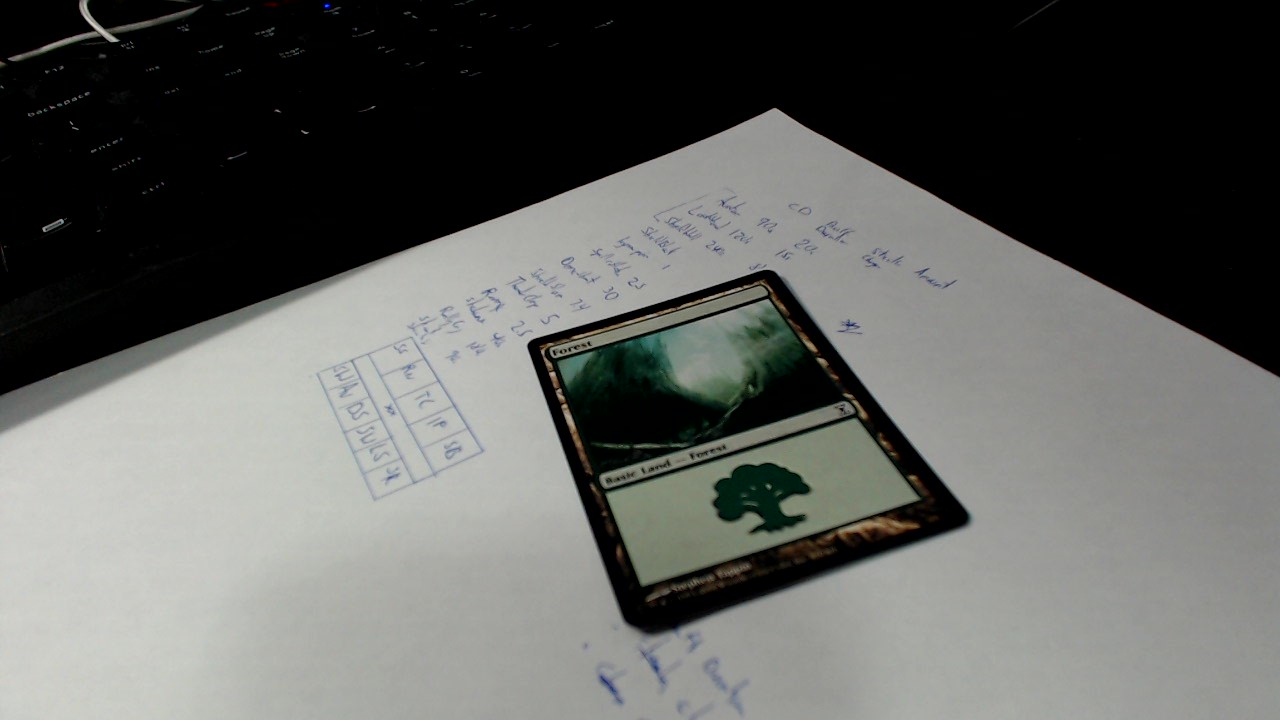MTG Card: (516, 264, 979, 641)
